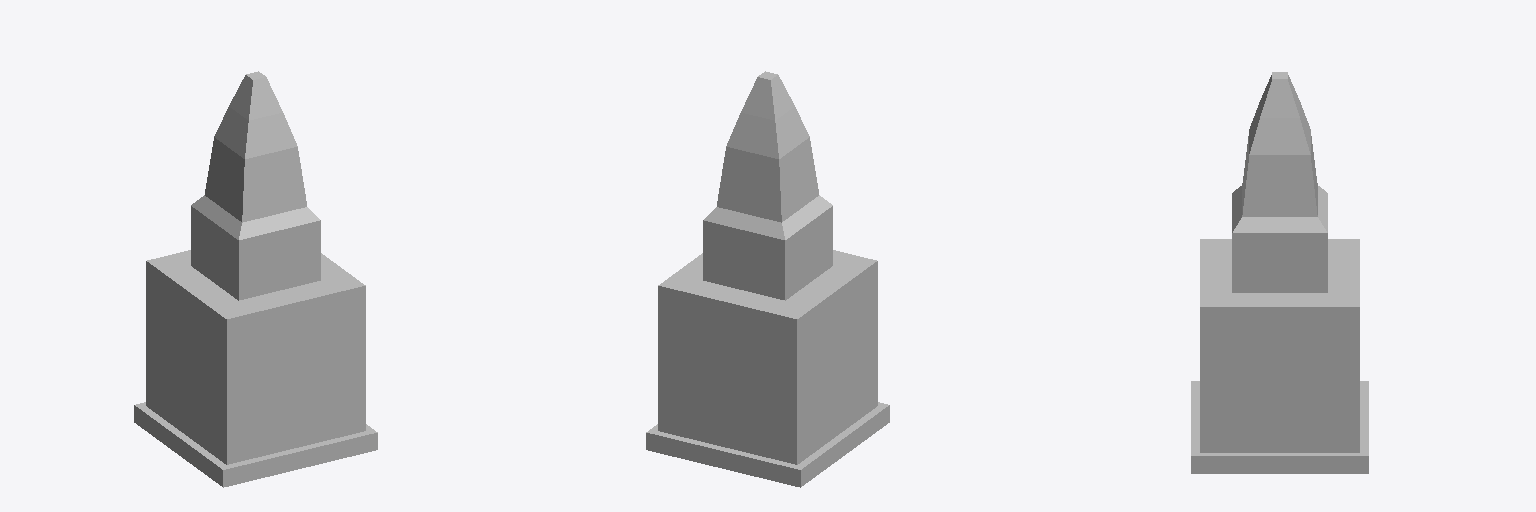
Rendered from building.obj.
3 views of the same model, side by side, from view 1: azimuth 30°, elevation 25°; view 2: azimuth 150°, elevation 25°; view 3: azimuth 270°, elevation 25° (orthographic).
Visible parts, largest first — view 1: Cube; view 2: Cube; view 3: Cube.
Boxes of the visible parts, x1,y1,x2,y2 form: Cube: [134, 71, 377, 487]; Cube: [646, 71, 889, 487]; Cube: [1191, 72, 1368, 473].
Size of the model in its own units: 2.22 by 4.96 by 2.22.